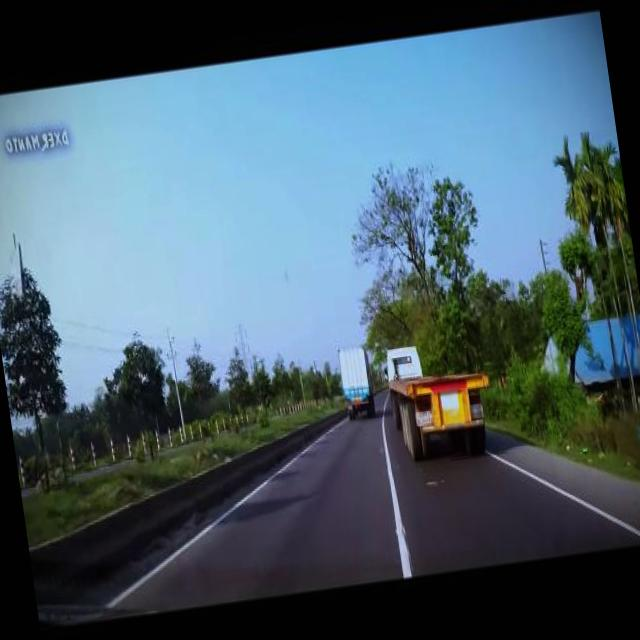truck: (380, 331, 502, 469), (336, 340, 380, 422)
